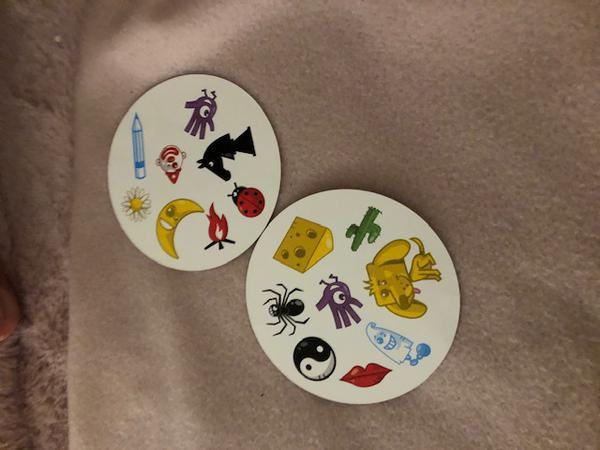araignee: (258, 284, 311, 337)
bouche: (336, 360, 395, 388)
cactus: (341, 207, 385, 255)
cheval: (194, 123, 257, 188)
chien: (363, 236, 442, 320)
clown: (152, 139, 187, 187)
coccinelle: (224, 183, 266, 223)
crayon: (125, 110, 150, 183)
dooble: (311, 274, 367, 331), (180, 86, 219, 143)
fantome: (359, 320, 432, 366)
feu: (201, 204, 238, 259)
fleur: (117, 181, 154, 225)
fromage: (272, 211, 339, 276)
lune: (152, 197, 197, 260)
ying_yang: (292, 335, 338, 382)
